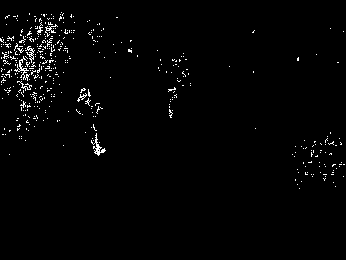person: (71, 87, 114, 162)
